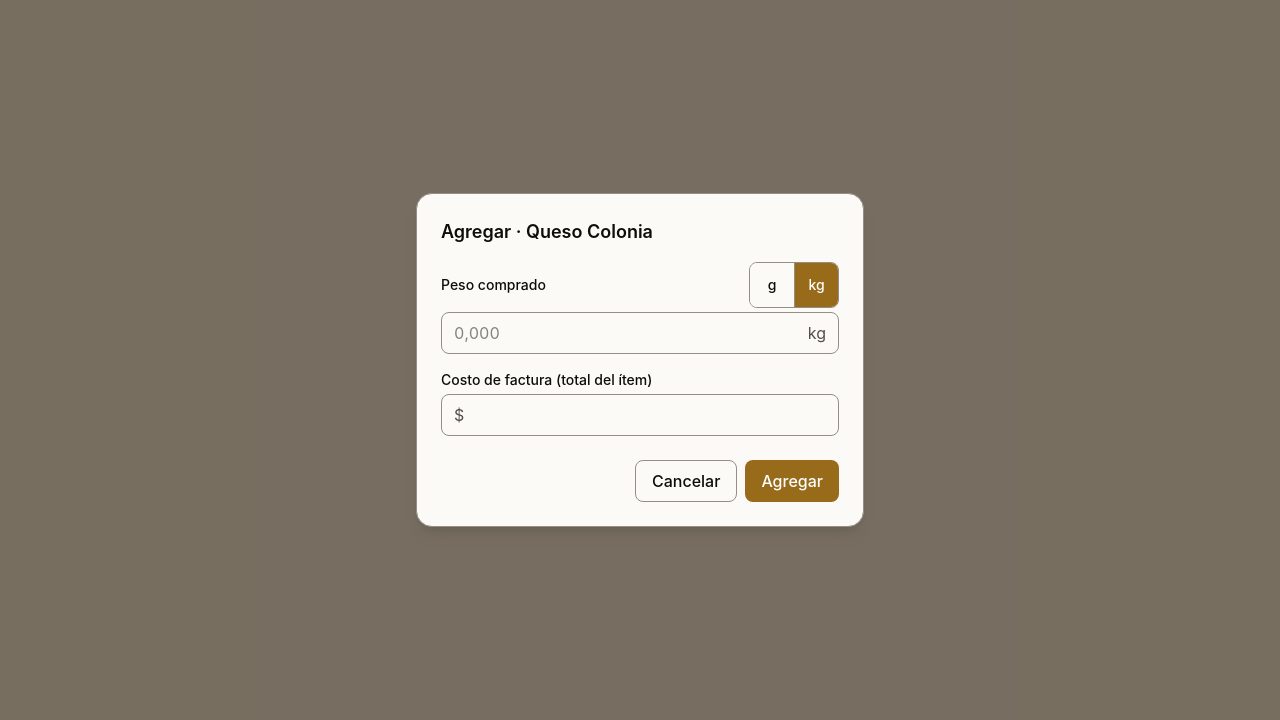
ModalItemCompra › granel: sin peso ni costo, no confirma y marca errores
This screenshot has width=1280, height=720.
Step 1. Click the button "Agregar" → (792, 481), box [745,460,839,502]
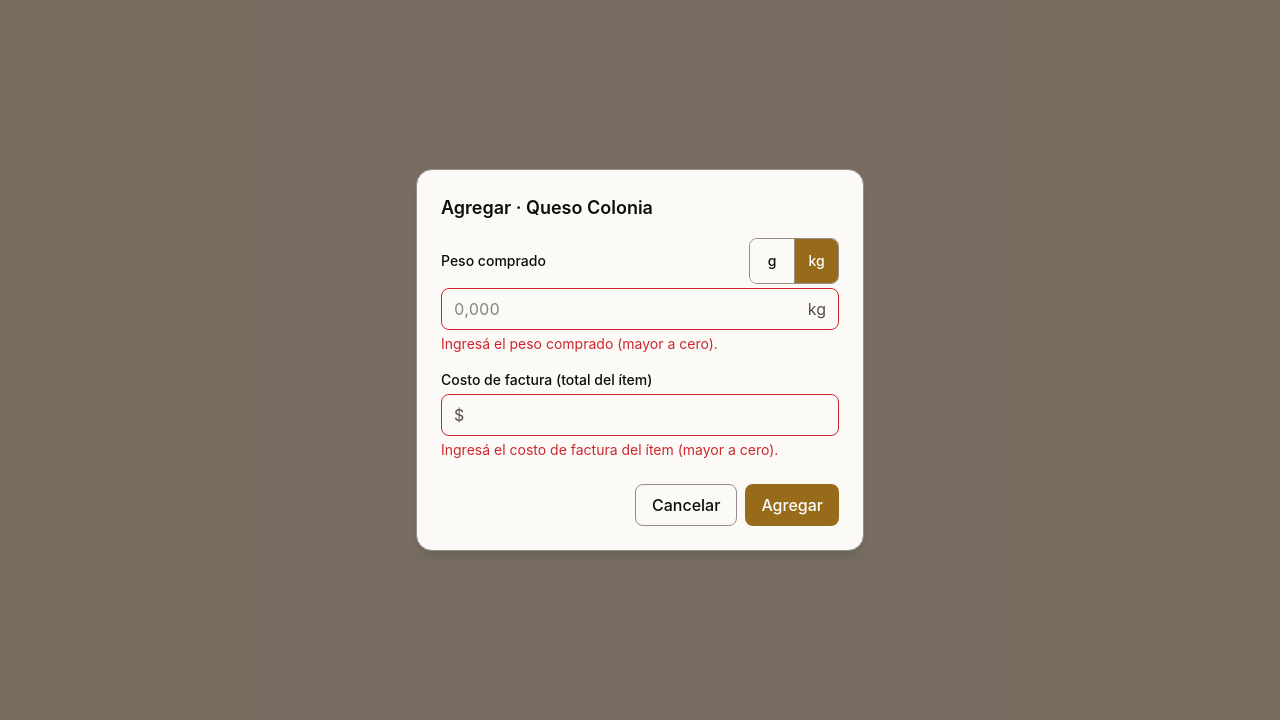
Expected: the text "Ingresá el peso comprado (mayor a cero)." is shown, [441,335,718,352]
Expected: the text "Ingresá el costo de factura del ítem (mayor a cero)." is shown, [441,441,778,458]
